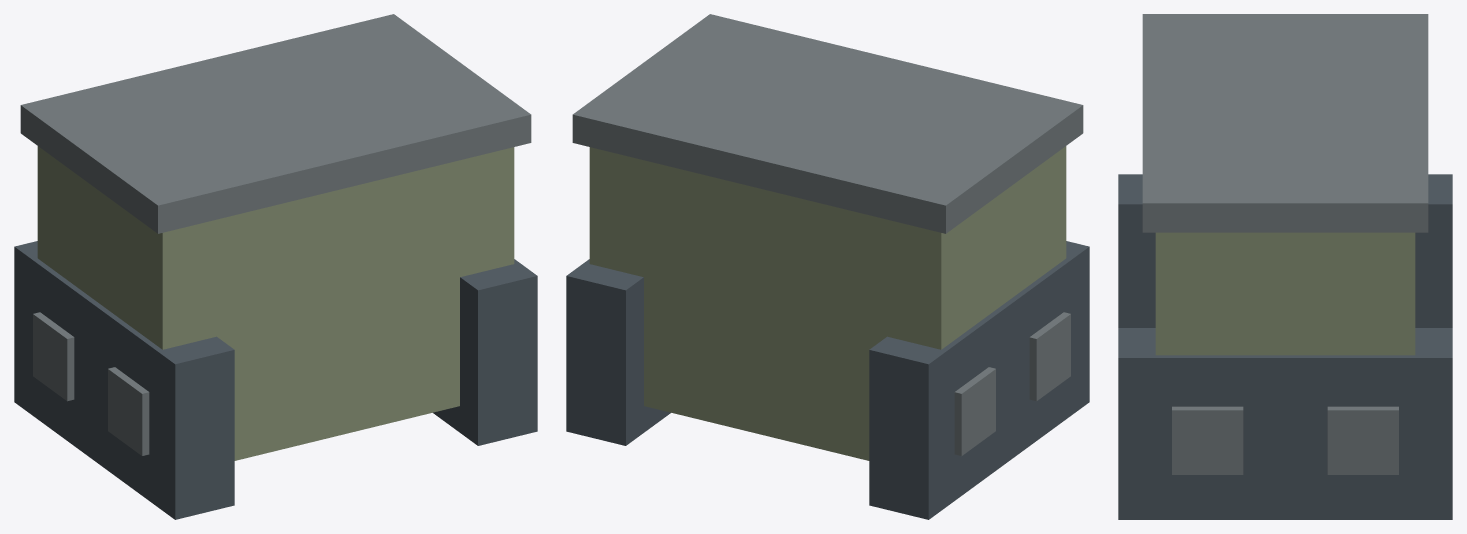
The model's file is dumpster.glb.
3 views of the same model, side by side, from view 1: azimuth 30°, elevation 25°; view 2: azimuth 150°, elevation 25°; view 3: azimuth 270°, elevation 25° (orthographic). The views are drawn at different scales.
Parts seen in each view (by area): view 1: body, wheel_-0.56_0.24, wheel_-0.56_-0.24, wheel_0.56_0.24; view 2: body, wheel_-0.56_-0.24, wheel_-0.56_0.24, wheel_0.56_-0.24; view 3: body, wheel_0.56_-0.24, wheel_0.56_0.24, wheel_-0.56_-0.24, wheel_-0.56_0.24.
Boxes of the visible parts, x1=… form: body: x1=20, y1=14, x2=531, y2=460; wheel_-0.56_0.24: x1=90, y1=304, x2=234, y2=519; wheel_-0.56_-0.24: x1=14, y1=241, x2=105, y2=464; wheel_0.56_0.24: x1=433, y1=259, x2=537, y2=445; body: x1=572, y1=14, x2=1083, y2=460; wheel_-0.56_-0.24: x1=869, y1=301, x2=1014, y2=519; wheel_-0.56_0.24: x1=999, y1=241, x2=1089, y2=464; wheel_0.56_-0.24: x1=566, y1=259, x2=670, y2=445; body: x1=1142, y1=14, x2=1428, y2=355; wheel_0.56_-0.24: x1=1274, y1=328, x2=1452, y2=519; wheel_0.56_0.24: x1=1118, y1=328, x2=1296, y2=519; wheel_-0.56_-0.24: x1=1415, y1=174, x2=1452, y2=327; wheel_-0.56_0.24: x1=1118, y1=174, x2=1155, y2=327.
Bounding box in the file's own units: 1.39 × 1.08 × 1.03.
